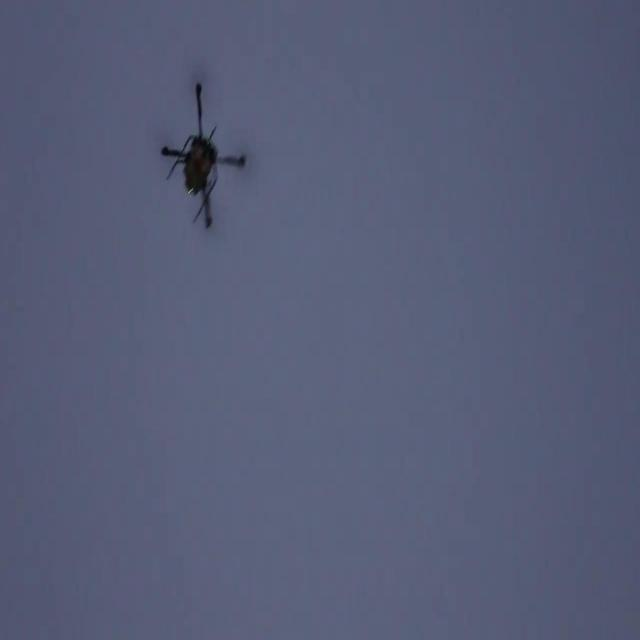UAV: (160, 82, 247, 230)
